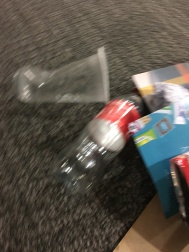bottle_red: (59, 81, 146, 206)
